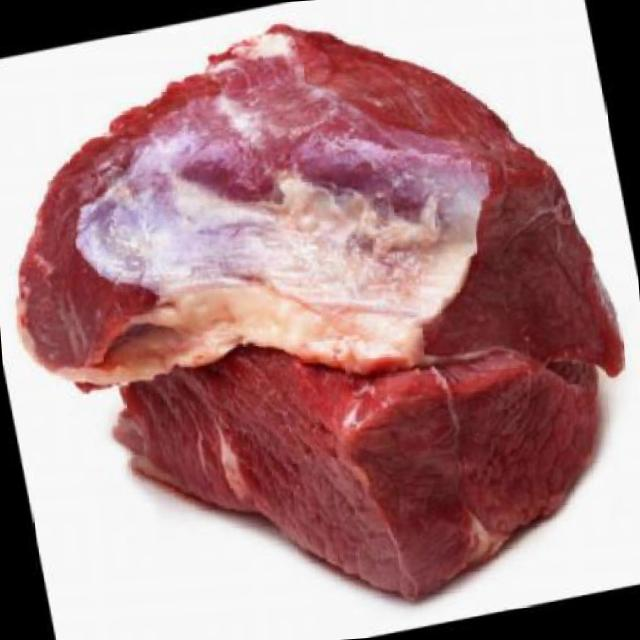beaf: (0, 8, 640, 405), (99, 278, 626, 630)
